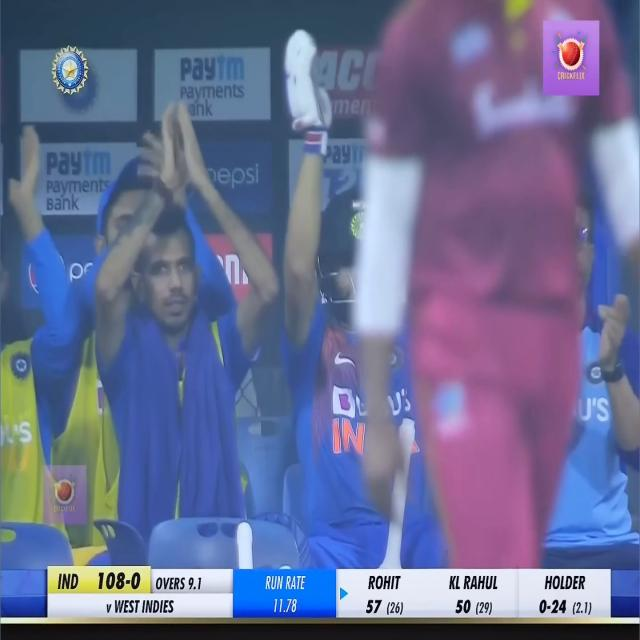fully_visible: (45, 145, 112, 180), (177, 53, 250, 81)
